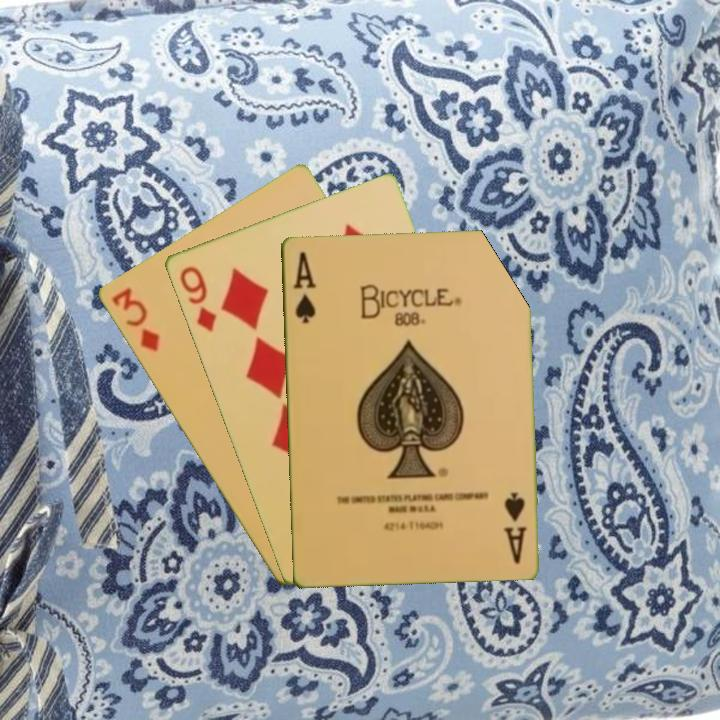3d: (107, 284, 162, 355)
9d: (175, 262, 219, 335)
As: (289, 248, 318, 326), (500, 488, 529, 566)
